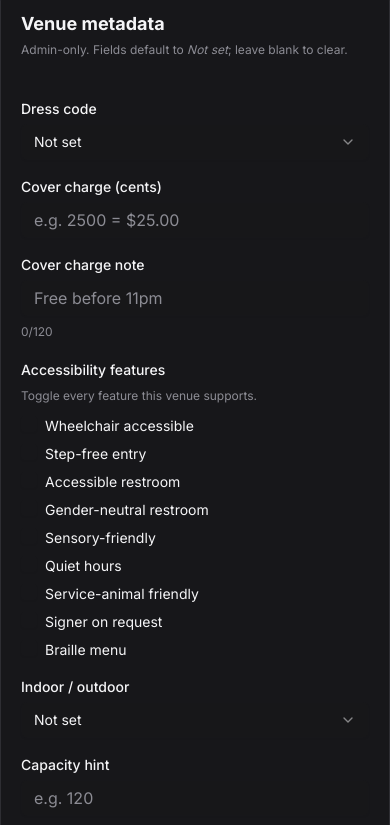
Test: VenueMetadataForm › shows inline error when capacity_hint is not a non-negative integer
Type "-5" into the field labelled "Capacity hint" at [195, 798], box [21,780,369,816]
(page scrolled)
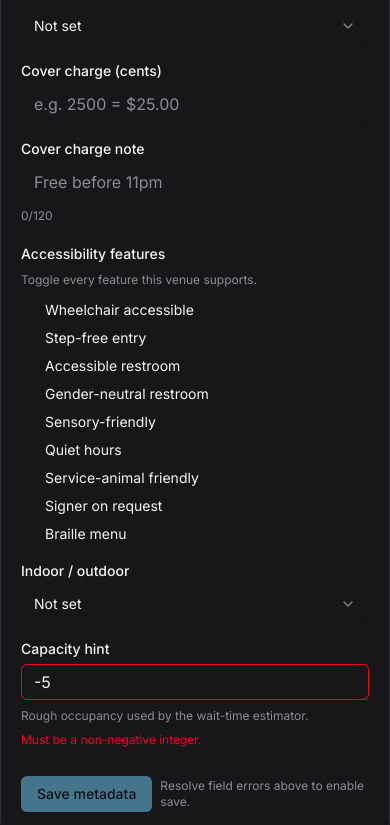
Check: the text "Must be a non-negative integer." is shown, box [21,732,202,747]
Check: the button "Save metadata" is disabled, box [21,776,152,812]
